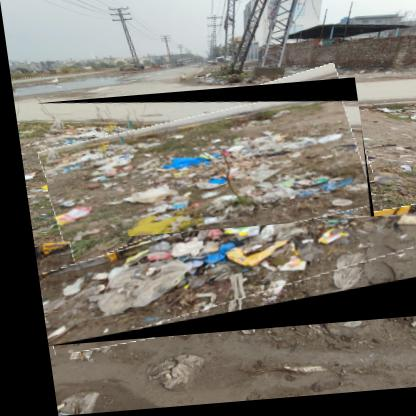Garbage: (33, 84, 371, 257), (28, 219, 416, 349)
